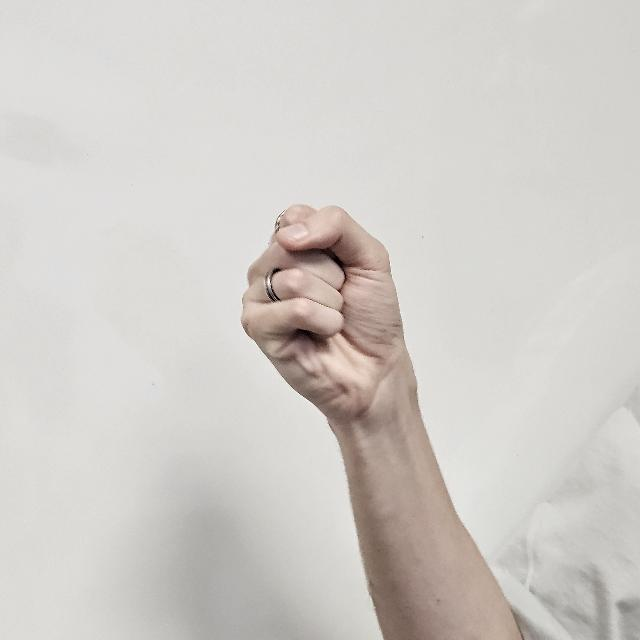Quadro: (239, 196, 407, 416)
